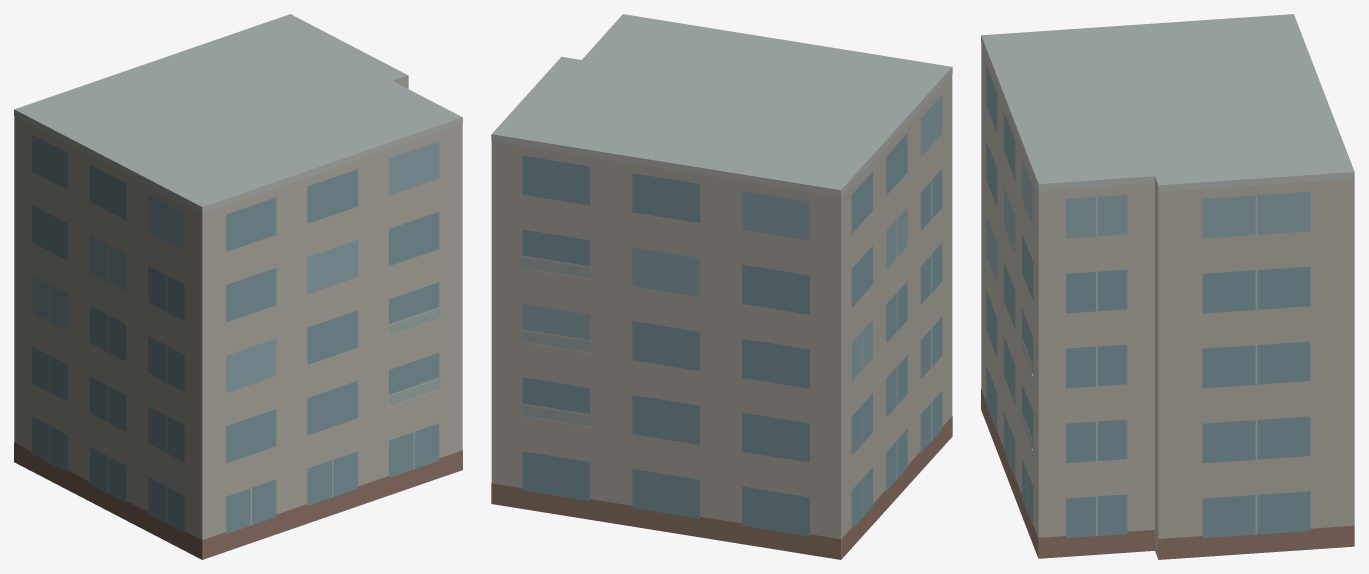
The model's file is survey-upis-32772844.glb.
3 views of the same model, side by side, from view 1: azimuth 30°, elevation 25°; view 2: azimuth 150°, elevation 25°; view 3: azimuth 270°, elevation 25° (orthographic). The views are drawn at different scales.
Visible parts, largest first — view 1: survey-upis-32772844.tmp; view 2: survey-upis-32772844.tmp; view 3: survey-upis-32772844.tmp.
Part boxes in pixels (x1,y1,x2,y2): survey-upis-32772844.tmp: (14, 14, 462, 559); survey-upis-32772844.tmp: (491, 14, 952, 559); survey-upis-32772844.tmp: (981, 14, 1354, 559).
Bounding box in the file's own units: 12.91 × 13.15 × 11.9.
